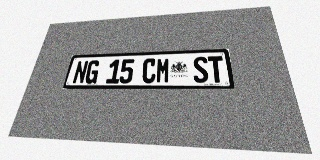1: (106, 59, 122, 83)
5: (119, 59, 134, 83)
C: (141, 58, 156, 83)
G: (84, 60, 101, 84)
M: (156, 58, 170, 83)
N: (72, 60, 89, 84)
S: (193, 56, 209, 83)
T: (207, 56, 225, 83)
